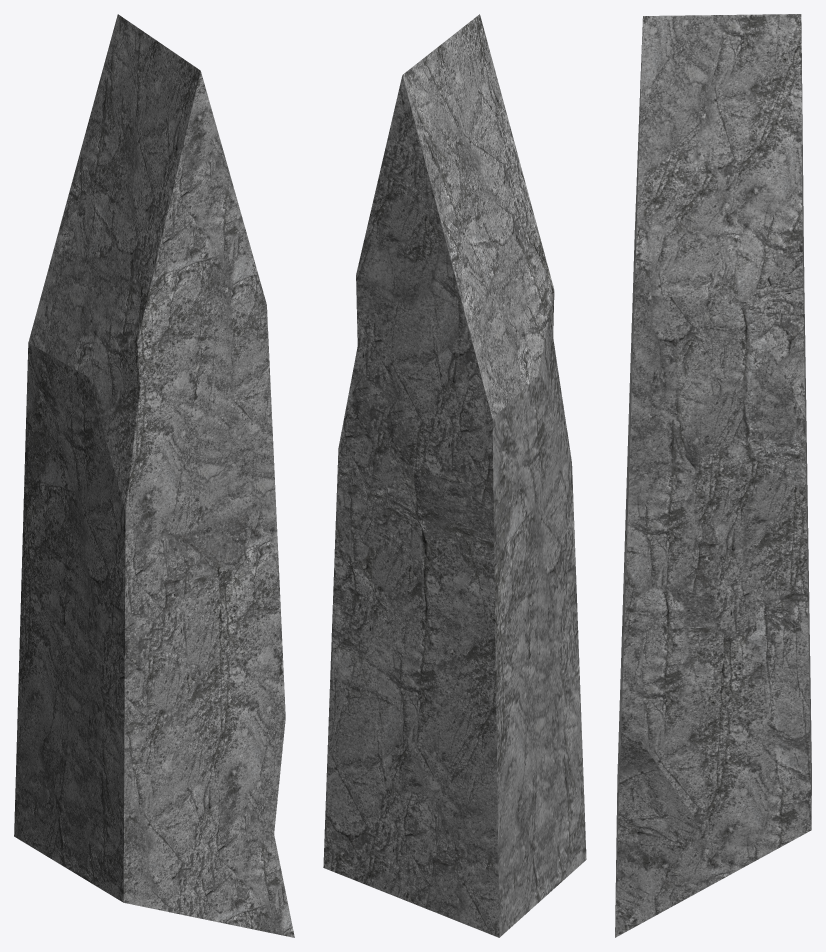
Rendered from materials_3_rubble_24.fbx.
3 views of the same model, side by side, from view 1: azimuth 30°, elevation 25°; view 2: azimuth 150°, elevation 25°; view 3: azimuth 270°, elevation 25° (orthographic). The views are drawn at different scales.
Visible parts, largest first — view 1: materials_3_rubble_24; view 2: materials_3_rubble_24; view 3: materials_3_rubble_24.
Part boxes in pixels (x1,y1,x2,y2): materials_3_rubble_24: [14, 14, 294, 937]; materials_3_rubble_24: [323, 14, 586, 937]; materials_3_rubble_24: [615, 14, 811, 937].
Bounding box in the file's own units: 54.34 × 249 × 50.35.
